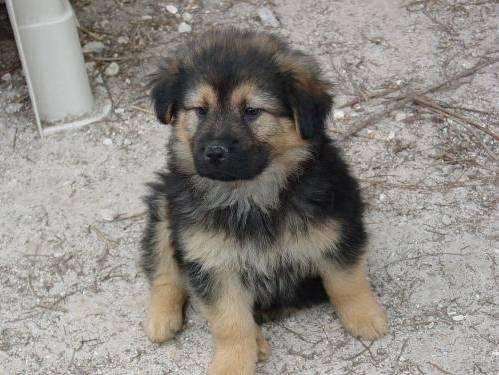dog: (141, 28, 385, 374)
